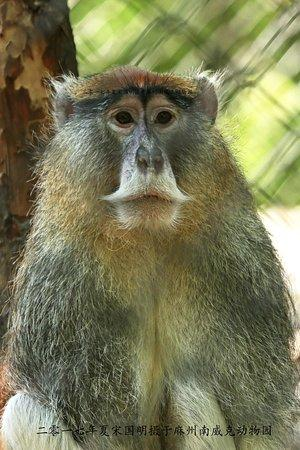monkey: (0, 65, 300, 450)
